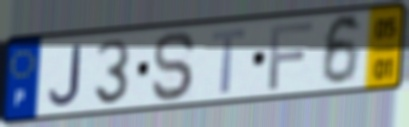3: (92, 37, 133, 106)
6: (317, 12, 366, 91)
F: (267, 19, 316, 92)
J: (46, 42, 83, 109)
S: (149, 29, 198, 103)
T: (210, 26, 249, 97)
